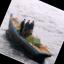fishing boat: (0, 9, 62, 64)
